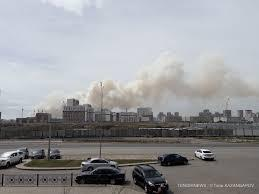smoke: (38, 52, 259, 112)
